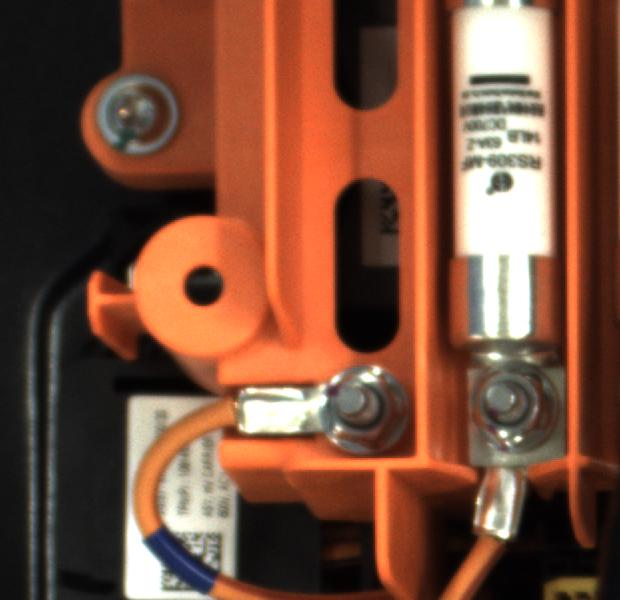screw_m: (84, 64, 193, 166)
screw_s: (462, 355, 570, 454), (314, 363, 411, 458)
